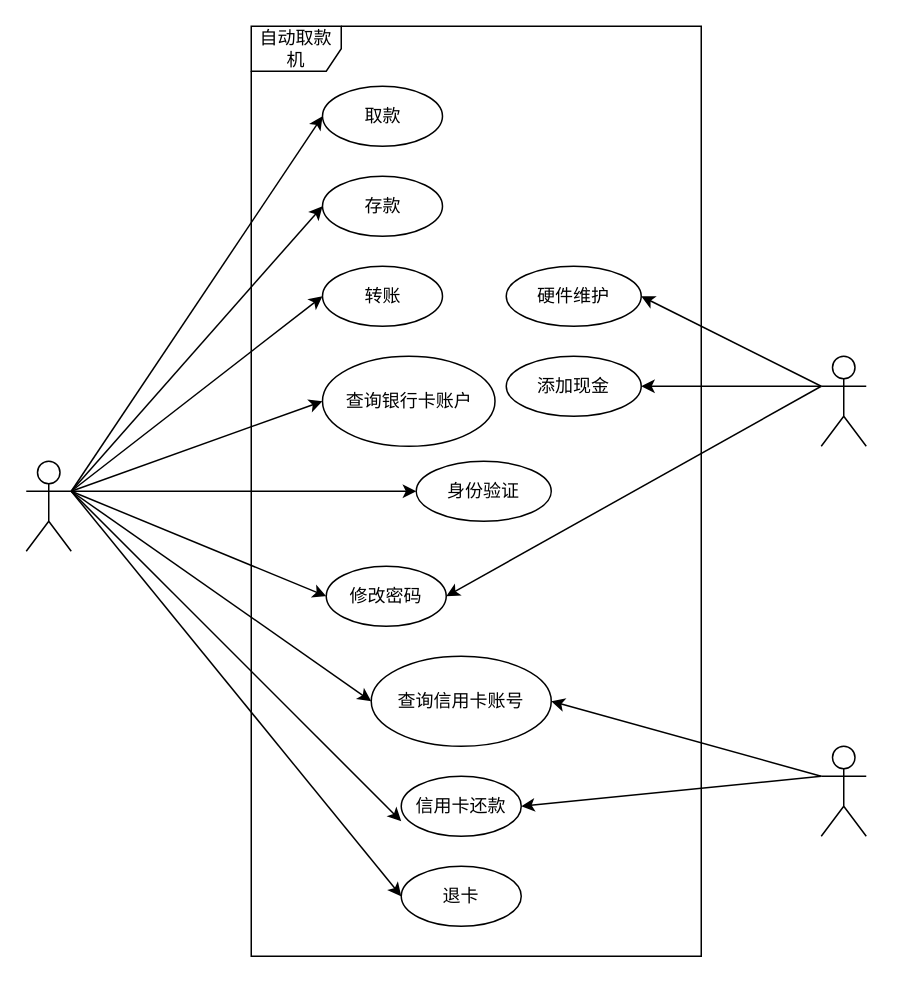
Image size: 906x983. Some labels were removed from this diagram. The centre of each missing label's shape, as x and y in pixels:
信用系统: (843,790)
客户: (48,505)
银行职员: (843,400)
